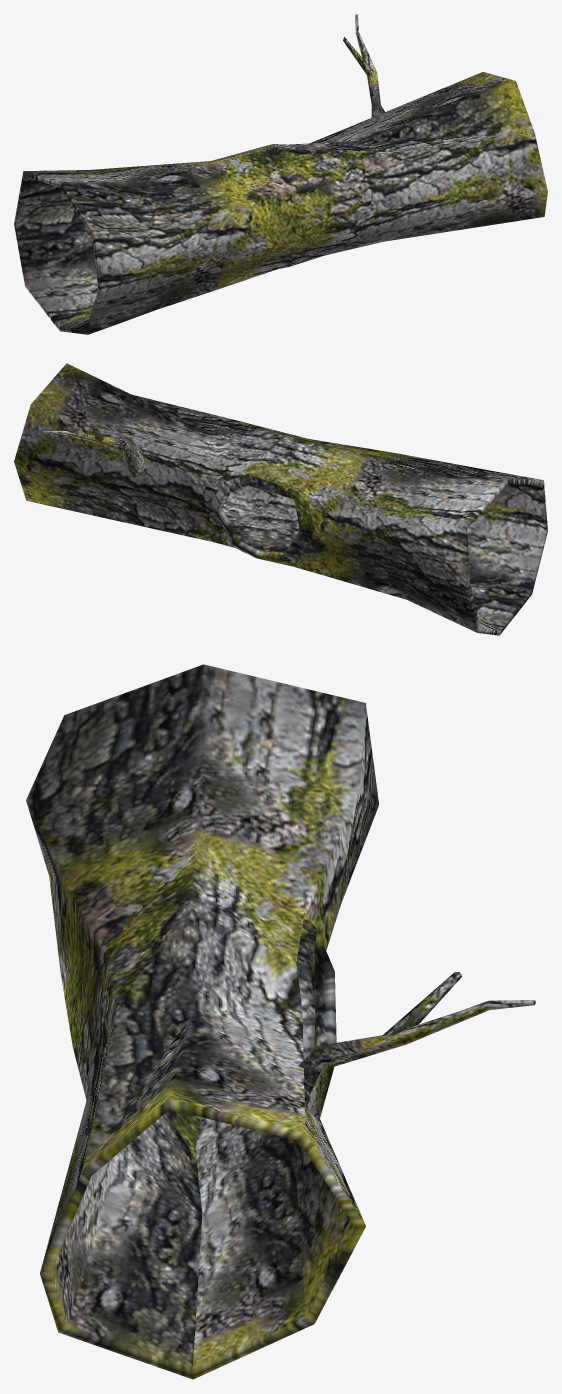
The model's file is TreeTrunk.fbx.
The picture shows the model from 3 angles, top to bottom: view 1: azimuth 30°, elevation 25°; view 2: azimuth 150°, elevation 25°; view 3: azimuth 270°, elevation 25°; orthographic projection. The views are drawn at different scales.
Visible parts, largest first — view 1: Cylinder_001; view 2: Cylinder_001; view 3: Cylinder_001.
Part boxes in pixels (x1,y1,x2,y2): Cylinder_001: (14, 14, 547, 334); Cylinder_001: (14, 363, 547, 635); Cylinder_001: (26, 664, 535, 1379).
Size of the model in its own units: 815 by 290 by 396.
